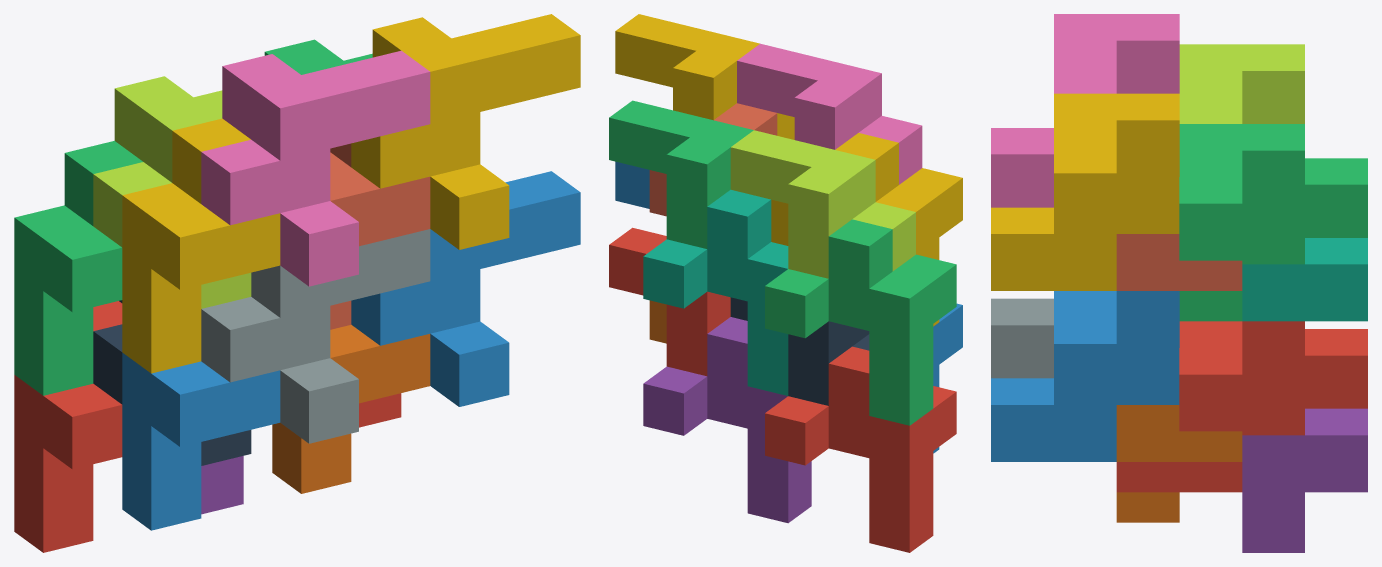
Rendered from tiling.obj.
The picture shows the model from 3 angles, left to right: view 1: azimuth 30°, elevation 25°; view 2: azimuth 150°, elevation 25°; view 3: azimuth 270°, elevation 25°; orthographic projection. The views are drawn at different scales.
Parts seen in each view (by area): view 1: copy_2_domain_4, copy_2_domain_8, copy_1_domain_4, copy_2_domain_2, copy_2_domain_6, copy_1_domain_3, copy_1_domain_2, copy_1_domain_1, copy_2_domain_3, copy_1_domain_6, copy_1_domain_8, copy_2_domain_1 (+3 smaller); view 2: copy_1_domain_3, copy_1_domain_1, copy_2_domain_3, copy_1_domain_7, copy_1_domain_5, copy_2_domain_4, copy_2_domain_7, copy_2_domain_8, copy_1_domain_4, copy_2_domain_5, copy_2_domain_1, copy_1_domain_8 (+3 smaller); view 3: copy_2_domain_8, copy_2_domain_6, copy_2_domain_7, copy_2_domain_5, copy_2_domain_4, copy_1_domain_5, copy_2_domain_3, copy_1_domain_7, copy_1_domain_6, copy_1_domain_8, copy_2_domain_2, copy_1_domain_1 (+1 smaller).
Boxes of the visible parts, left/top/right/bottom form: copy_2_domain_4: left=201, top=50, right=430, bottom=286; copy_2_domain_8: left=351, top=14, right=580, bottom=249; copy_1_domain_4: left=122, top=118, right=280, bottom=373; copy_2_domain_2: left=201, top=229, right=430, bottom=443; copy_2_domain_6: left=351, top=171, right=580, bottom=406; copy_1_domain_3: left=14, top=141, right=142, bottom=395; copy_1_domain_2: left=122, top=352, right=280, bottom=530; copy_1_domain_1: left=14, top=301, right=122, bottom=552; copy_2_domain_3: left=93, top=76, right=251, bottom=308; copy_1_domain_6: left=272, top=324, right=430, bottom=493; copy_1_domain_8: left=330, top=143, right=430, bottom=329; copy_2_domain_1: left=93, top=300, right=251, bottom=465; copy_1_domain_3: left=765, top=219, right=956, bottom=425; copy_1_domain_1: left=765, top=346, right=956, bottom=552; copy_2_domain_3: left=730, top=130, right=915, bottom=278; copy_1_domain_7: left=643, top=189, right=788, bottom=395; copy_1_domain_5: left=643, top=317, right=811, bottom=523; copy_2_domain_4: left=737, top=43, right=922, bottom=184; copy_2_domain_7: left=609, top=100, right=753, bottom=248; copy_2_domain_8: left=615, top=14, right=794, bottom=139; copy_1_domain_4: left=771, top=133, right=962, bottom=326; copy_2_domain_5: left=609, top=227, right=730, bottom=376; copy_2_domain_1: left=730, top=297, right=869, bottom=405; copy_1_domain_8: left=649, top=103, right=777, bottom=216; copy_2_domain_8: left=991, top=93, right=1179, bottom=290; copy_2_domain_6: left=991, top=291, right=1179, bottom=461; copy_2_domain_7: left=1179, top=124, right=1304, bottom=321; copy_2_domain_5: left=1116, top=321, right=1304, bottom=492; copy_2_domain_4: left=991, top=14, right=1179, bottom=207; copy_1_domain_5: left=1242, top=408, right=1367, bottom=552; copy_2_domain_3: left=1179, top=44, right=1304, bottom=123; copy_1_domain_7: left=1242, top=238, right=1367, bottom=321; copy_1_domain_6: left=1116, top=405, right=1242, bottom=522; copy_1_domain_8: left=1116, top=234, right=1242, bottom=290; copy_2_domain_2: left=991, top=298, right=1053, bottom=378; copy_1_domain_1: left=1305, top=329, right=1367, bottom=408.
Bounding box in the file's own units: 9 × 9 × 6.
